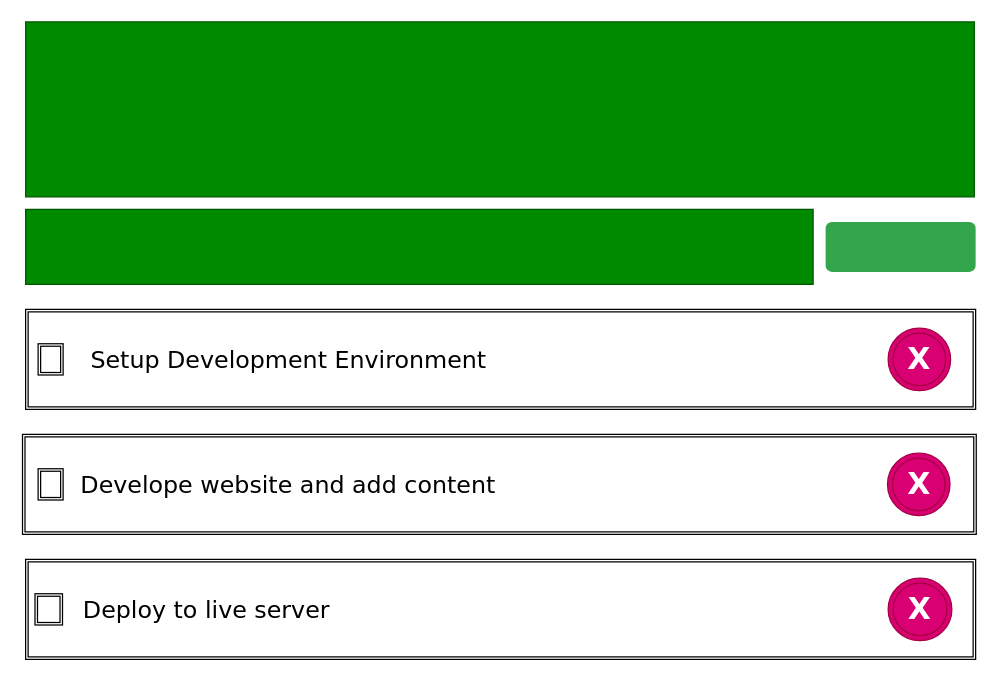
This 998x681 diagram has some shape labels left out. Each missing label, with the centre of its shape:
"Add Todo" goes at point (418, 246).
"Simple Todo App" goes at point (499, 109).
"Submit" goes at point (900, 246).
